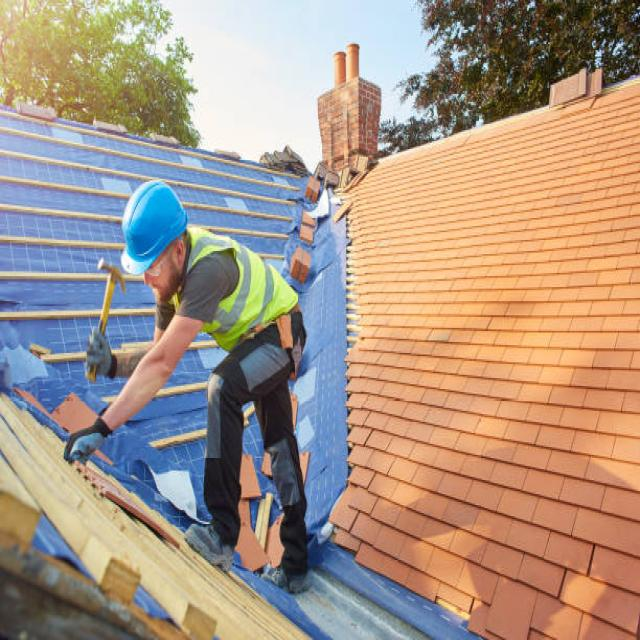gloves: (63, 419, 110, 463), (85, 323, 114, 380)
